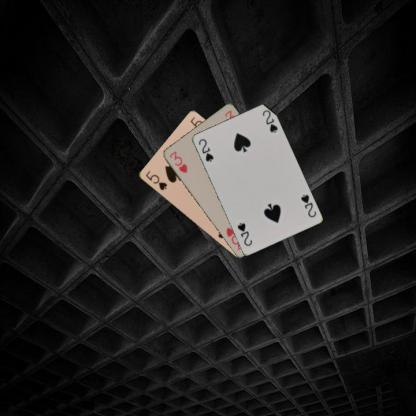2s: (298, 192, 317, 219), (196, 136, 214, 163)
3h: (166, 148, 188, 174)
5s: (142, 168, 168, 192)
